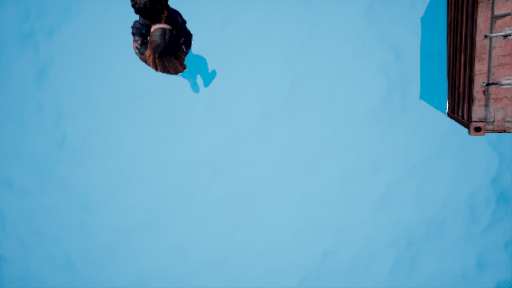person: (124, 2, 213, 91)
